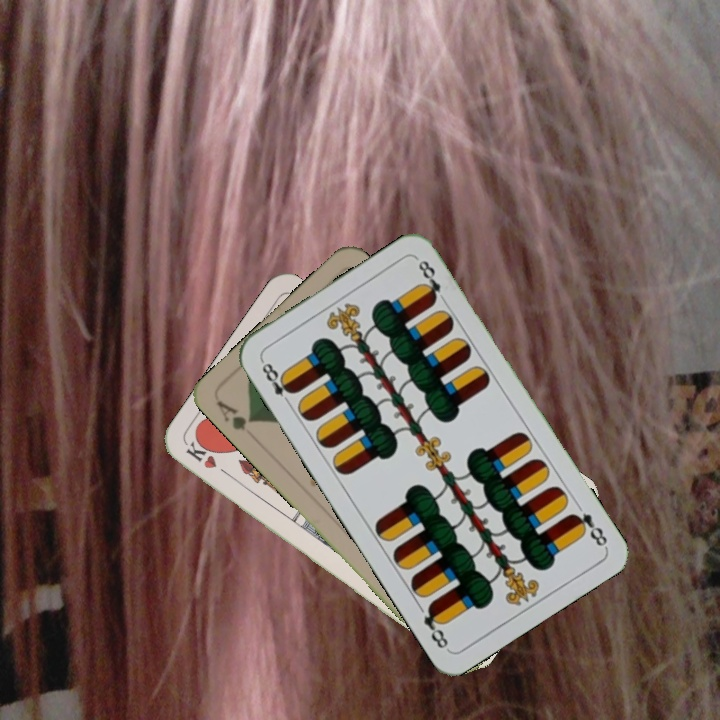E8: (257, 356, 298, 409), (566, 509, 610, 550)
GA: (212, 396, 259, 433)
HK: (181, 438, 235, 481)
